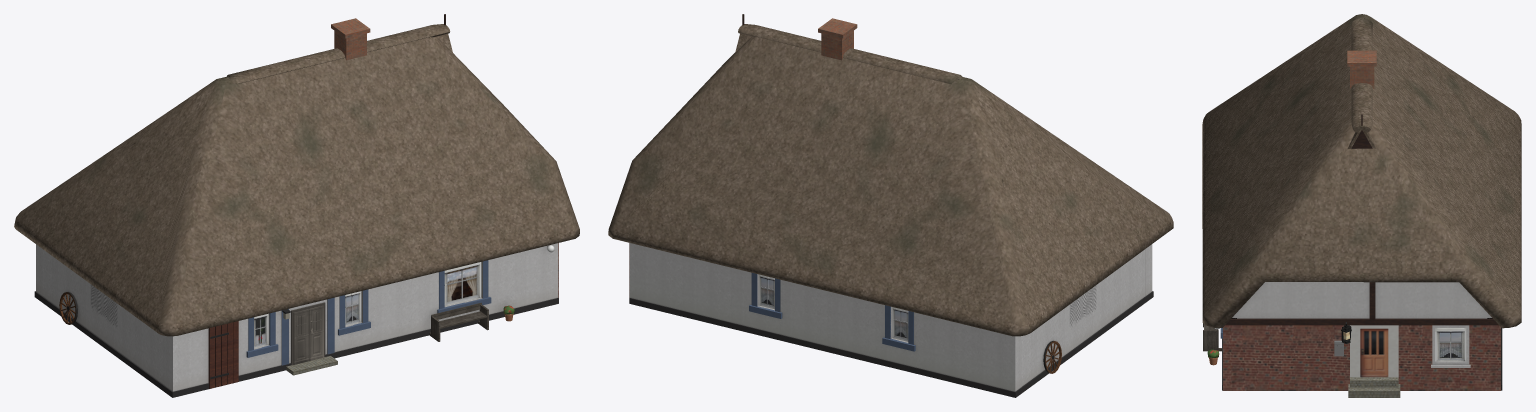
The model's file is vitt_fischerhaus.gltf.
3 renders of one model, left to right at view 1: azimuth 30°, elevation 25°; view 2: azimuth 150°, elevation 25°; view 3: azimuth 270°, elevation 25°, orthographic.
Visible parts, largest first — view 1: Fischerhaus; view 2: Fischerhaus; view 3: Fischerhaus.
Boxes of the visible parts, x1,y1,x2,y2 form: Fischerhaus: [14, 14, 579, 397]; Fischerhaus: [608, 14, 1173, 397]; Fischerhaus: [1202, 14, 1521, 397].
Size of the model in its own units: 14.21 by 8.4 by 9.18.
1 material, 1 textured.
